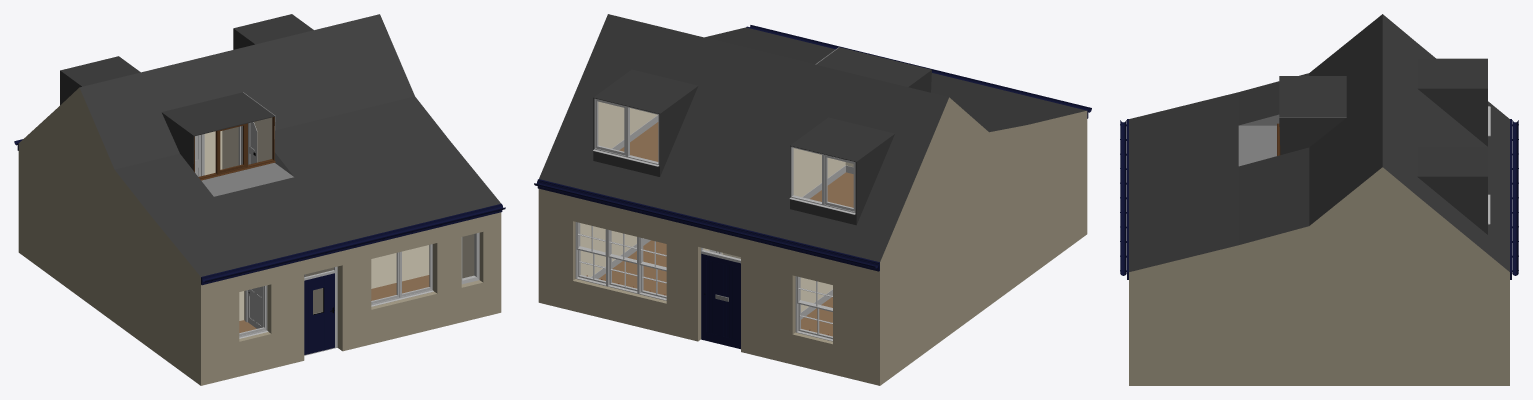
File: houseModel.glb
3 renders of one model, left to right at view 1: azimuth 30°, elevation 25°; view 2: azimuth 150°, elevation 25°; view 3: azimuth 270°, elevation 25°, orthographic. The views are drawn at different scales.
Visible parts, largest first — view 1: Roof and walls, Landing, Kitchen, Back door, Bedroom2, Bedroom1, Back hall, Stairs, Bathroom door, Bathroom; view 2: Roof and walls, Bedroom1, Bedroom2, Living room, Front door, Study; view 3: Roof and walls, Bedroom2, Bedroom1, Landing.
Part boxes in pixels (x1,y1,x2,y2): Roof and walls: (14, 14, 505, 385); Landing: (193, 117, 293, 196); Kitchen: (371, 232, 479, 306); Back door: (304, 273, 334, 354); Bedroom2: (60, 56, 204, 175); Bedroom1: (233, 14, 313, 165); Back hall: (245, 266, 337, 355); Stairs: (222, 127, 238, 169); Bathroom door: (247, 286, 261, 328); Bathroom: (239, 285, 268, 338); Roof and walls: (534, 14, 1091, 385); Bedroom1: (593, 69, 698, 176); Bedroom2: (789, 117, 894, 225); Living room: (575, 222, 666, 300); Front door: (701, 254, 740, 349); Study: (795, 276, 832, 341); Roof and walls: (1120, 14, 1518, 385); Bedroom2: (1417, 58, 1490, 146); Bedroom1: (1417, 147, 1490, 234); Landing: (1238, 123, 1280, 166).
Size of the model in its own units: 8.4 by 5.6 by 9.25.
